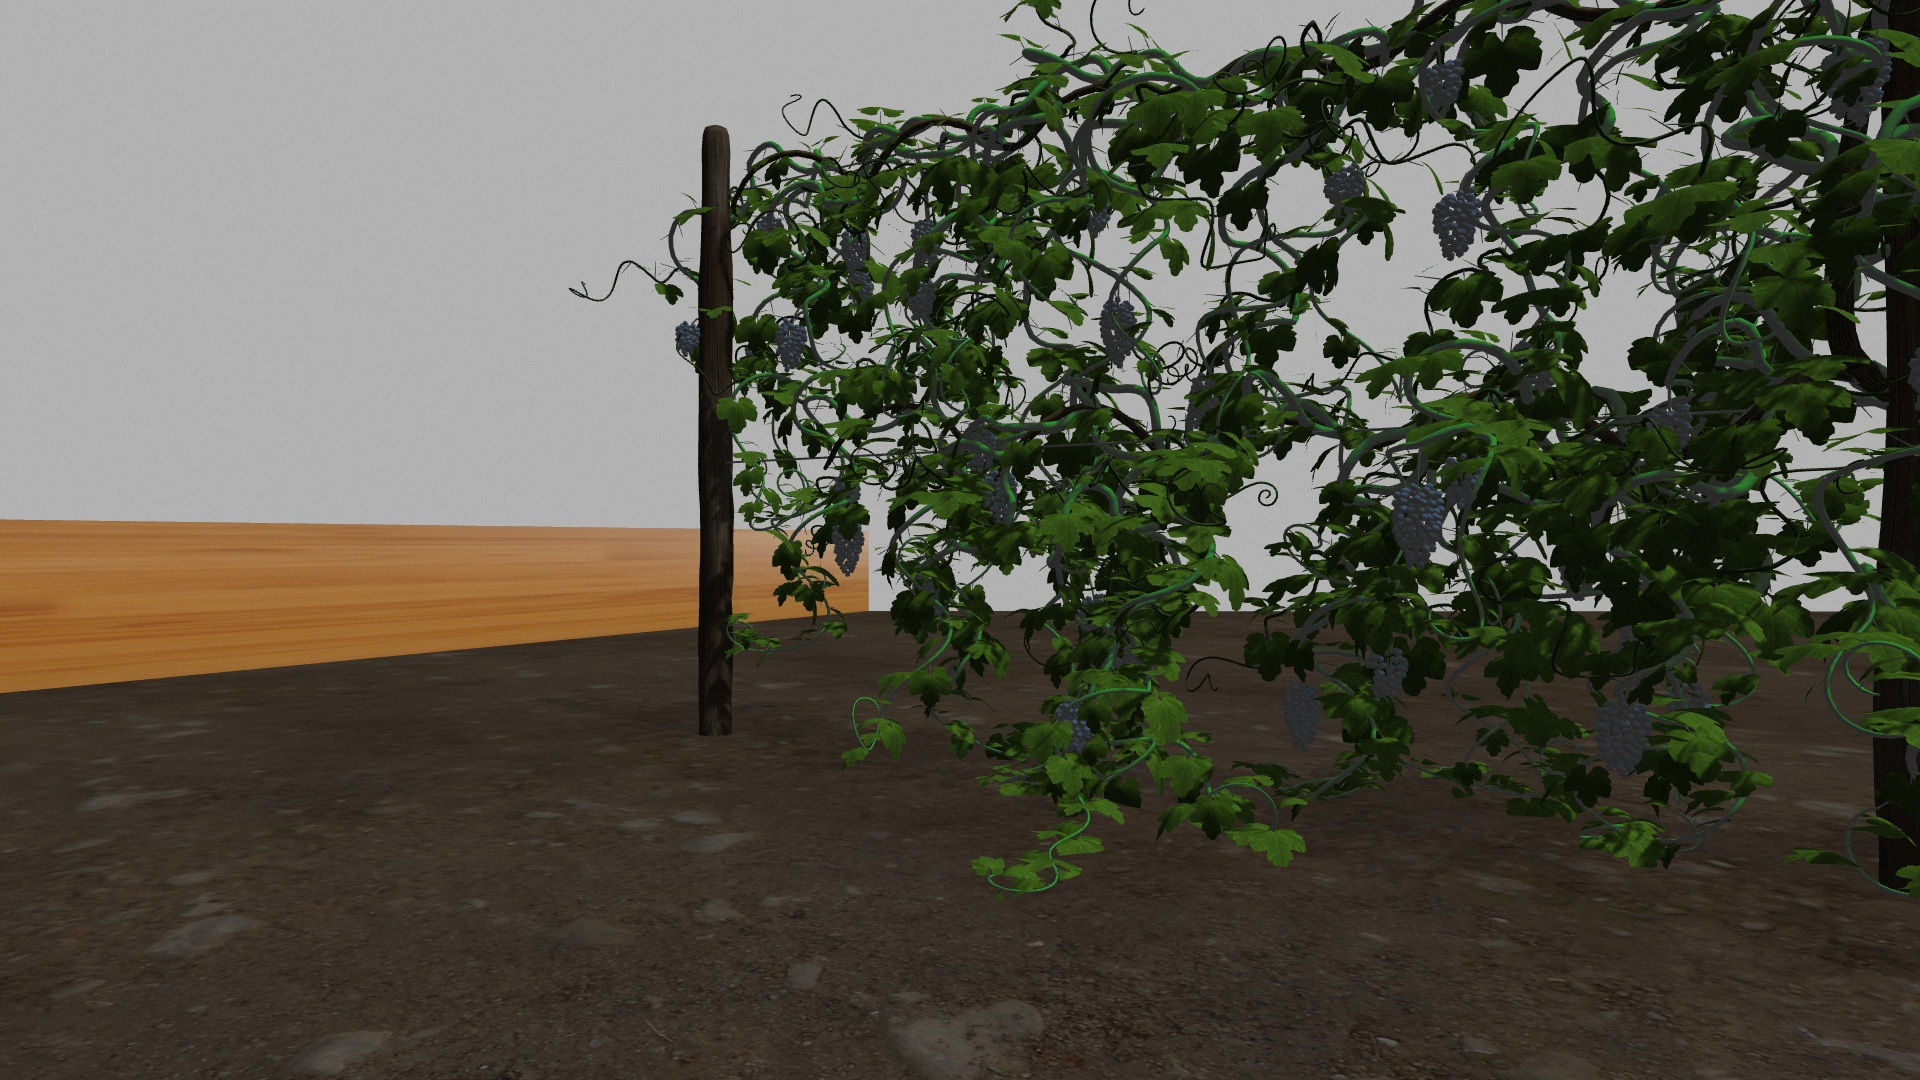grape: (1818, 37, 1894, 128), (1389, 483, 1447, 571), (1594, 698, 1654, 778), (1432, 189, 1484, 261), (1280, 679, 1327, 750), (1098, 297, 1139, 369), (1364, 646, 1408, 702), (1424, 58, 1465, 119), (1054, 702, 1091, 757), (775, 316, 808, 373), (832, 524, 866, 578), (982, 471, 1018, 522), (1324, 167, 1366, 206), (963, 426, 997, 472), (839, 225, 872, 266), (909, 282, 938, 322), (674, 320, 702, 356), (848, 269, 876, 303)
